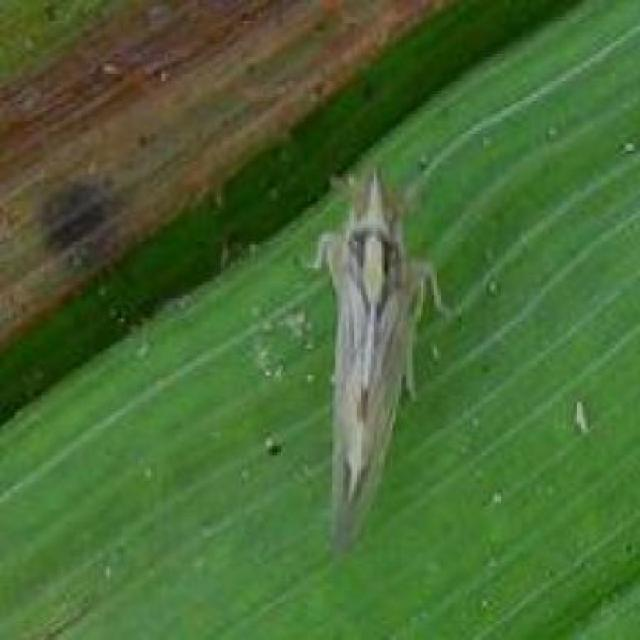brown-planthopper: (312, 168, 418, 547)
